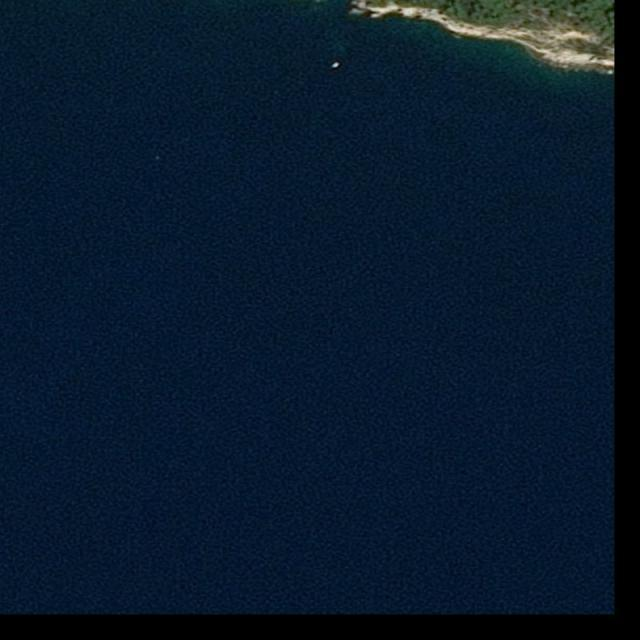ship: (330, 60, 341, 70)
